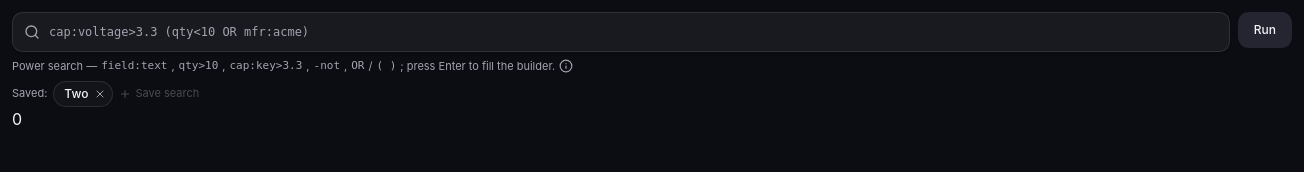
Test case: TextQueryInput — hybrid text search (spec §3, Phase 47) › recalls a saved search into the builder
This screenshot has width=1304, height=172.
Click the button with test id "saved-search-recall" at (76, 94), box [64,82,88,106]
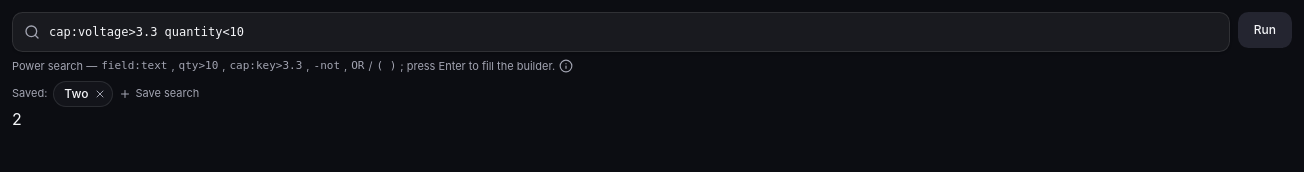
Expected: the text with test id "count" reads "2", [12,108,22,128]
